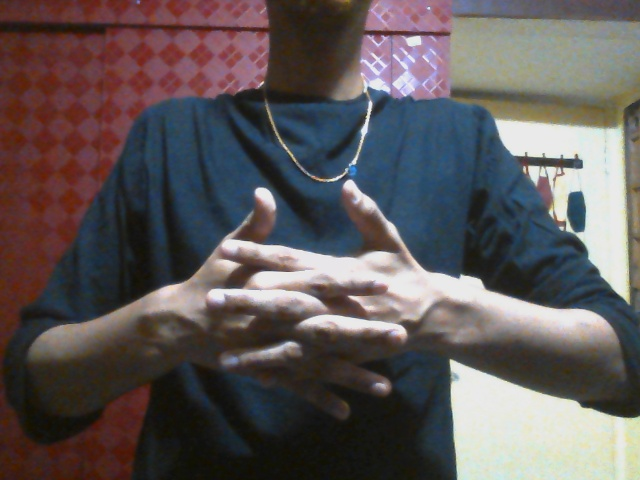W: (173, 175, 447, 421)
